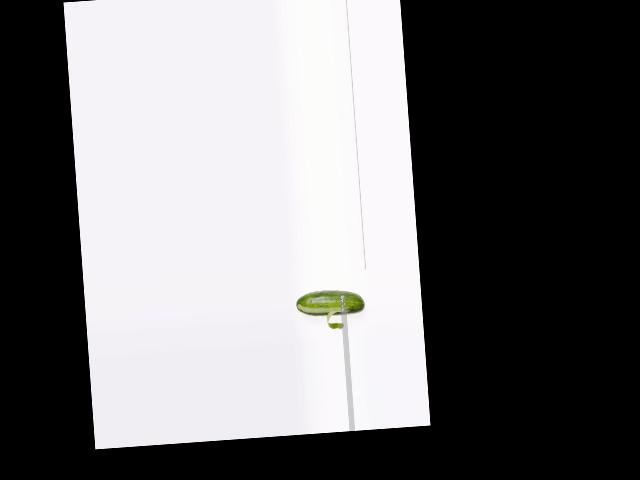cucumber: (295, 288, 365, 318)
